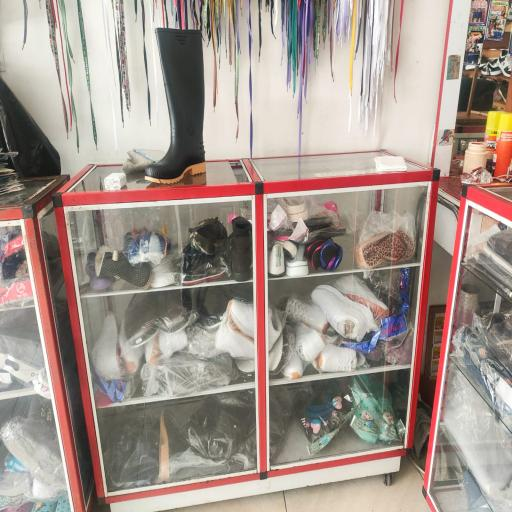boots: (145, 28, 206, 184)
